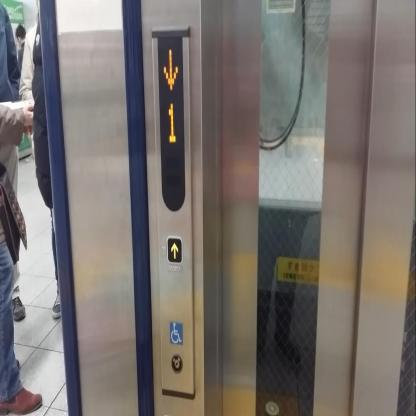CH: (169, 320, 183, 345)
keyhole: (171, 354, 183, 374)
led: (157, 35, 185, 210)
up: (165, 235, 183, 265)
